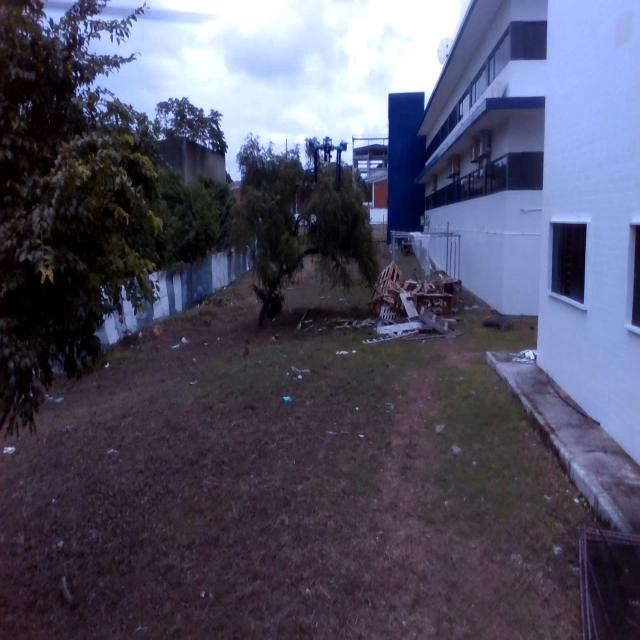-uav-: (298, 126, 358, 188)
